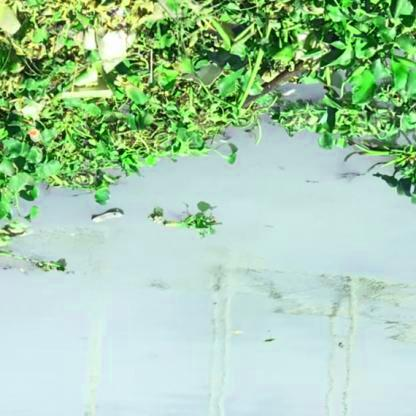Plastic: (89, 206, 125, 227), (162, 219, 184, 228)
